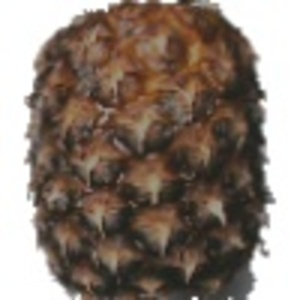abacaxi: (19, 2, 274, 298)
